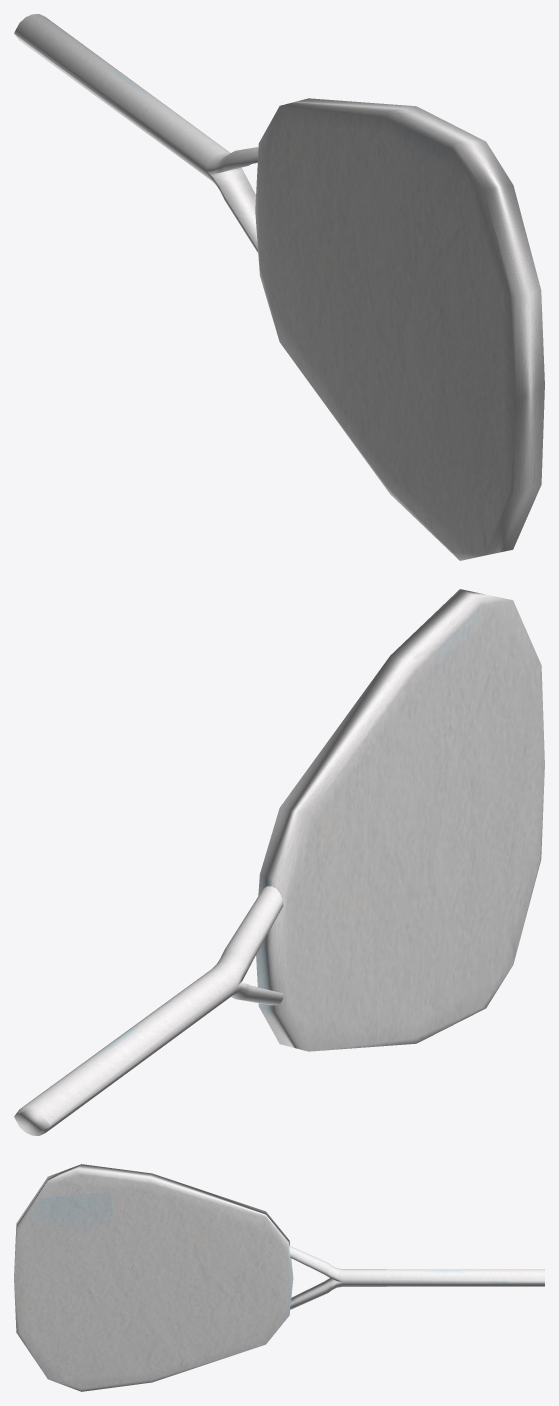
The model's file is tennis racket placeholder rec2.0 1.fbx.
3 views of the same model, one above another, from view 1: azimuth 30°, elevation 25°; view 2: azimuth 150°, elevation 25°; view 3: azimuth 270°, elevation 25° (orthographic). The views are drawn at different scales.
Parts seen in each view (by area): view 1: Cube, Cylinder; view 2: Cube, Cylinder; view 3: Cube, Cylinder.
Part boxes in pixels (x1,y1,x2,y2): Cube: [255, 98, 544, 560]; Cylinder: [14, 14, 258, 252]; Cube: [256, 589, 544, 1051]; Cylinder: [14, 886, 283, 1135]; Cube: [14, 1164, 293, 1391]; Cylinder: [289, 1246, 544, 1309].
Size of the model in its own units: 0.2033 by 2.19 by 4.77.
2 materials, 2 textured.
